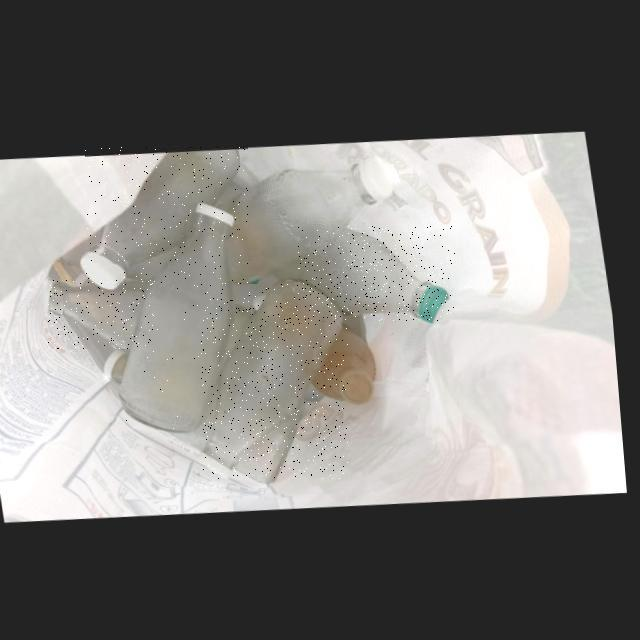glass: (201, 277, 348, 478), (123, 201, 242, 432), (222, 153, 402, 283), (85, 147, 248, 288), (298, 226, 455, 321), (48, 279, 153, 348)
